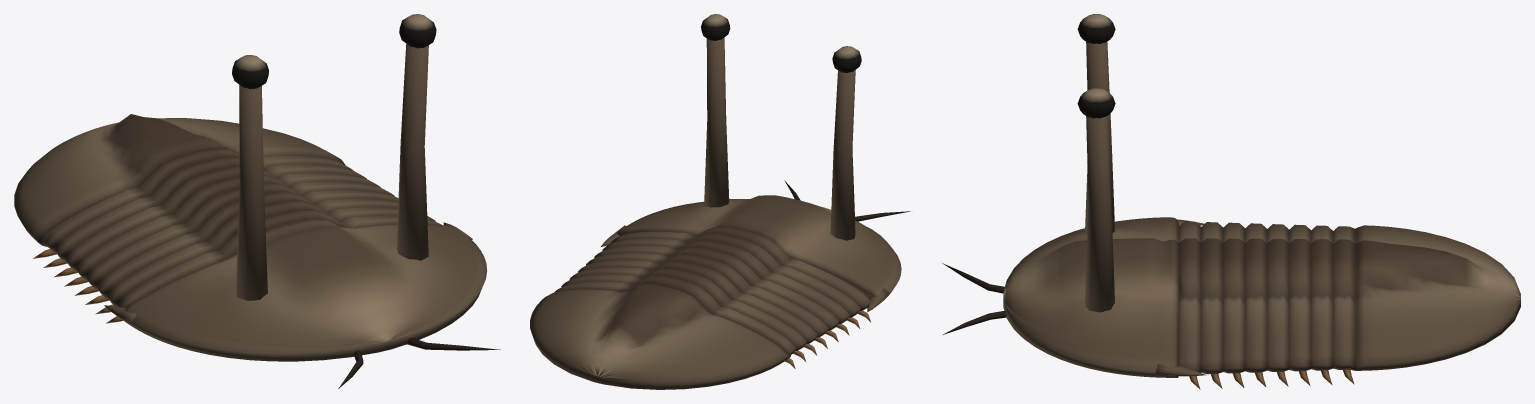
File: AsaphusKowalewskii.fbx
3 views of the same model, side by side, from view 1: azimuth 30°, elevation 25°; view 2: azimuth 150°, elevation 25°; view 3: azimuth 270°, elevation 25° (orthographic). The views are drawn at different scales.
Visible parts, largest first — view 1: AsaphusKowalewskii; view 2: AsaphusKowalewskii; view 3: AsaphusKowalewskii.
Boxes of the visible parts, box(x1,y1,x2,y2) form: AsaphusKowalewskii: box(14, 14, 500, 388); AsaphusKowalewskii: box(530, 14, 910, 389); AsaphusKowalewskii: box(942, 14, 1520, 389).
Bounding box in the file's own units: 1.05 × 0.8348 × 1.68.
